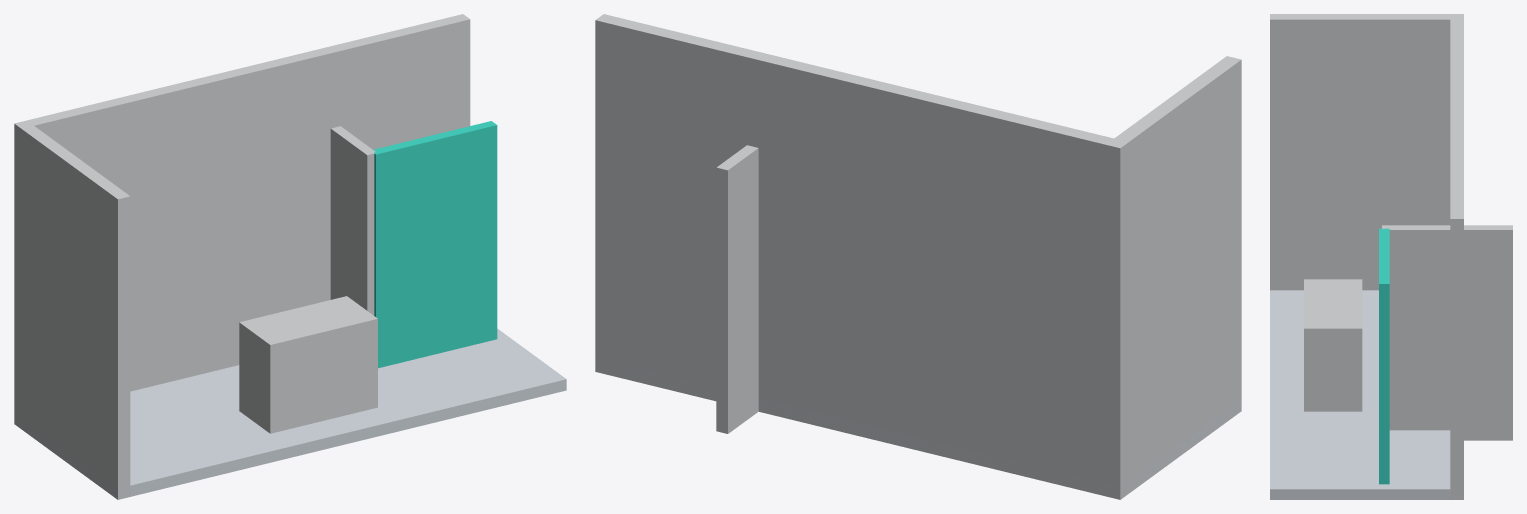
The picture shows the model from 3 angles, left to right: view 1: azimuth 30°, elevation 25°; view 2: azimuth 150°, elevation 25°; view 3: azimuth 270°, elevation 25°; orthographic projection. The views are drawn at different scales.
Visible parts, largest first — view 1: Exhibition Booth Concept; view 2: Exhibition Booth Concept; view 3: Exhibition Booth Concept.
Part boxes in pixels (x1,y1,x2,y2): Exhibition Booth Concept: (14, 14, 566, 499); Exhibition Booth Concept: (595, 14, 1241, 499); Exhibition Booth Concept: (1270, 14, 1512, 499).
Size of the model in its own units: 5 by 3.2 by 2.5.
